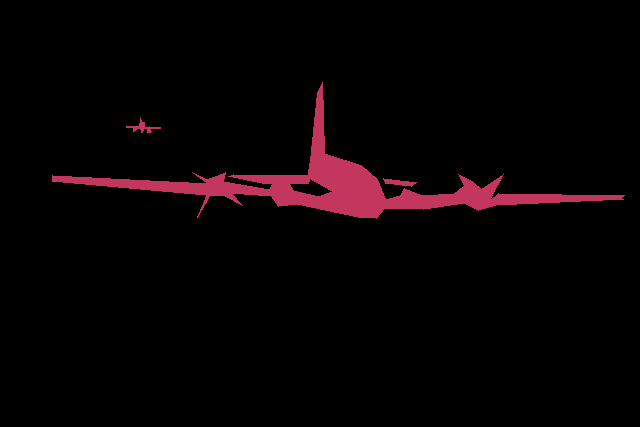Airplane: (52, 82, 624, 218), (228, 174, 624, 200), (126, 117, 161, 132)
